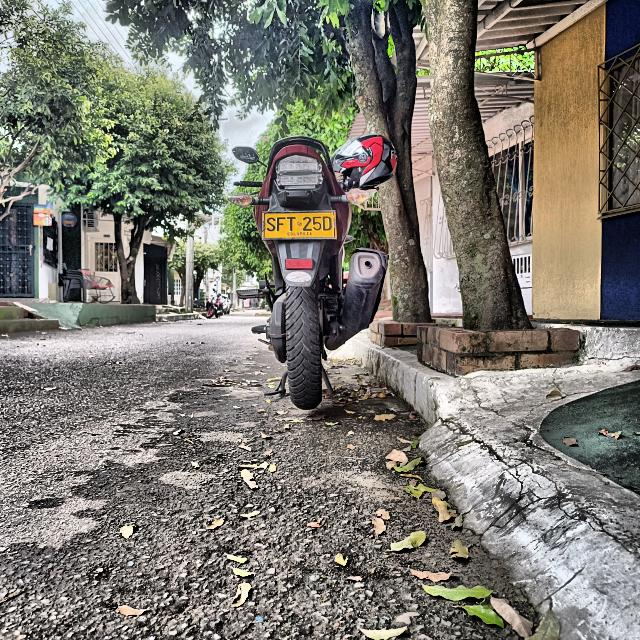plate: (262, 211, 335, 239)
